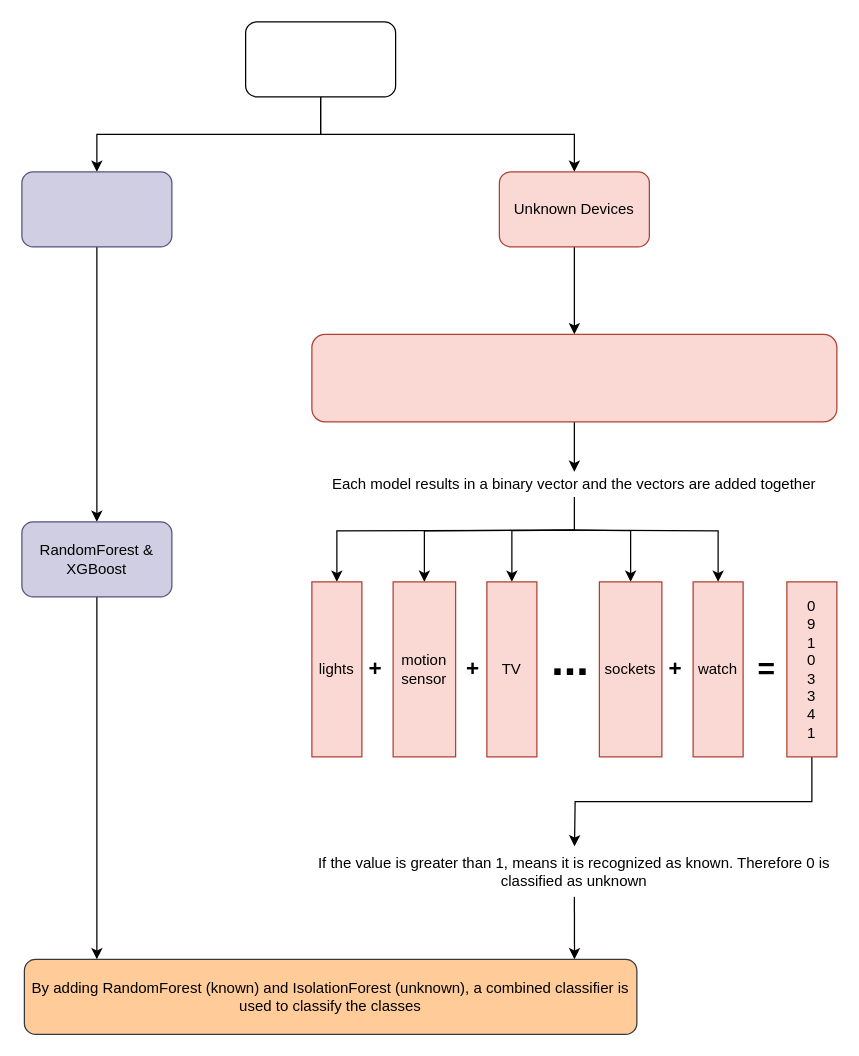
This 859x1056 diagram has some shape labels left out. Here are the shapes that lost their labels. From the top down, the box of each, then its label:
(244, 21, 396, 97): IOT Device Classification
(21, 171, 172, 247): Known Devices
(311, 333, 837, 422): IsolationForests
